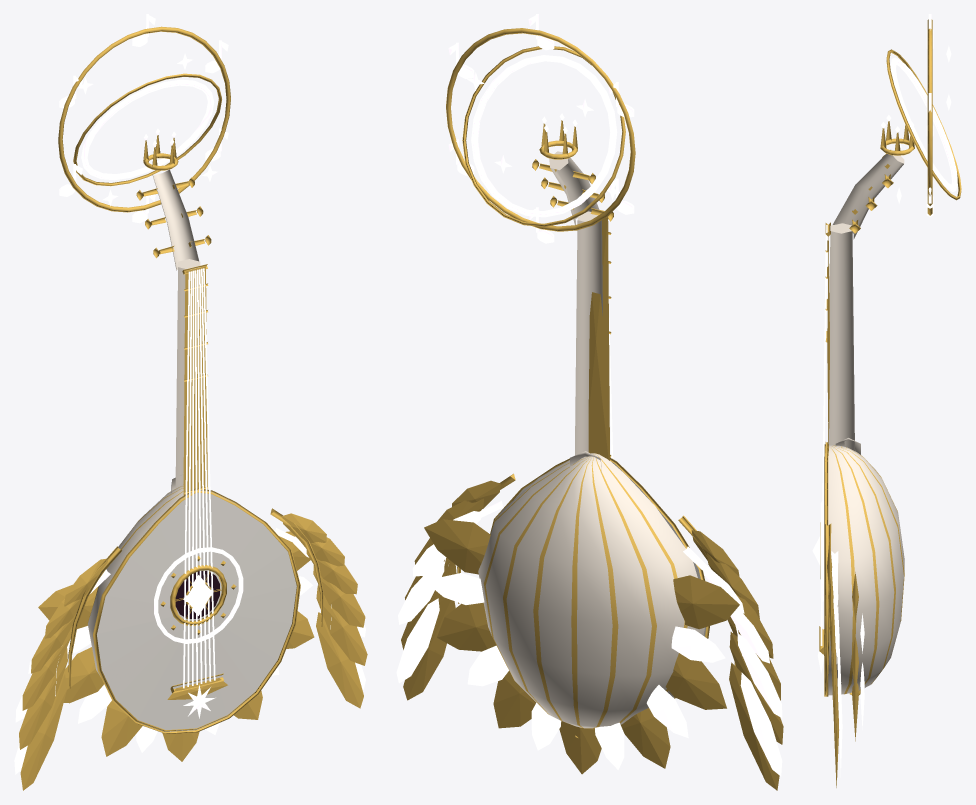
Rendered from bard_lute.glb.
3 views of the same model, side by side, from view 1: azimuth 30°, elevation 25°; view 2: azimuth 150°, elevation 25°; view 3: azimuth 270°, elevation 25° (orthographic). The views are drawn at different scales.
Parts seen in each view (by area): view 1: bard_lute; view 2: bard_lute; view 3: bard_lute.
Part boxes in pixels (x1,y1,x2,y2): bard_lute: (14, 14, 367, 790); bard_lute: (396, 14, 783, 790); bard_lute: (812, 14, 961, 787).
Size of the model in its own units: 0.4596 by 0.8986 by 0.1697.
